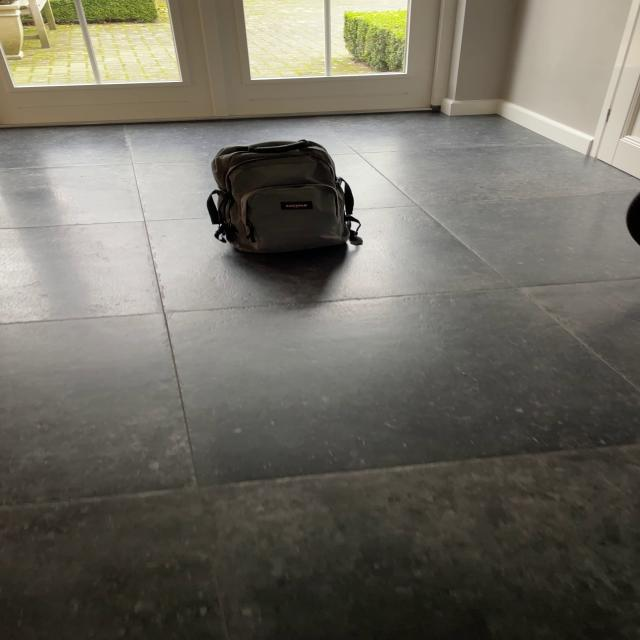backpack: (200, 135, 362, 259)
